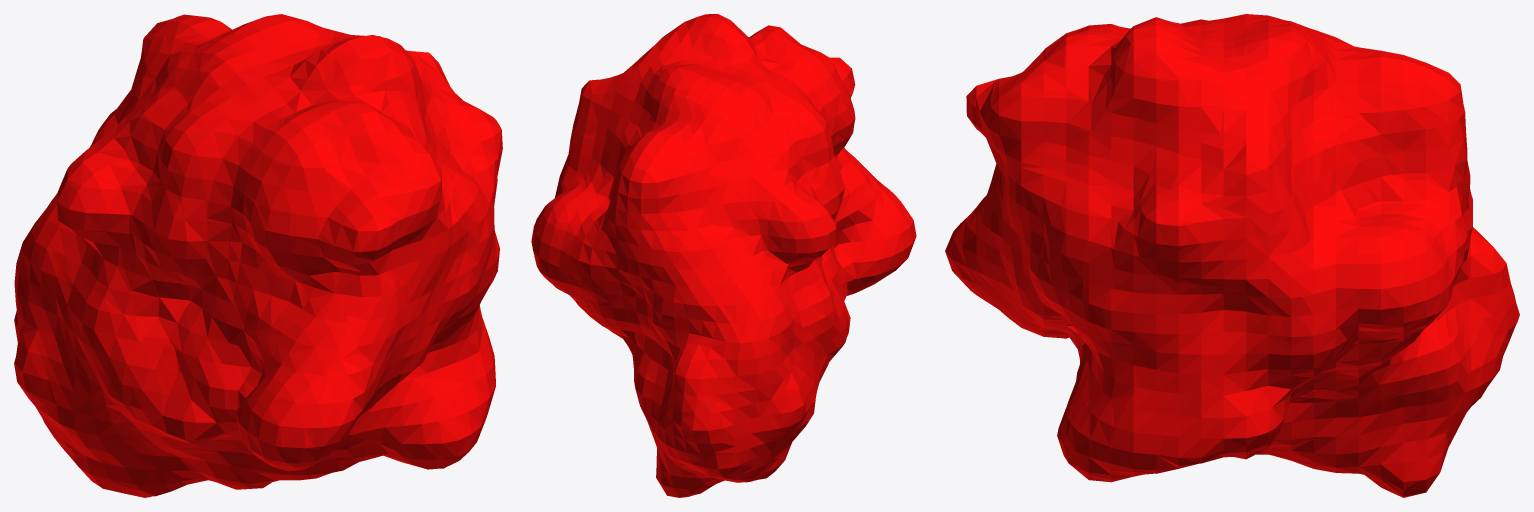
The model's file is pflB_coarse.dae.
The picture shows the model from 3 angles, left to right: view 1: azimuth 30°, elevation 25°; view 2: azimuth 150°, elevation 25°; view 3: azimuth 270°, elevation 25°; orthographic projection. The views are drawn at different scales.
Visible parts, largest first — view 1: pflB; view 2: pflB; view 3: pflB.
Boxes of the visible parts, left/top/right/bottom form: pflB: left=14, top=14, right=502, bottom=497; pflB: left=531, top=14, right=916, bottom=497; pflB: left=945, top=14, right=1519, bottom=497.
Size of the model in its own units: 60.99 by 78.14 by 79.56.
